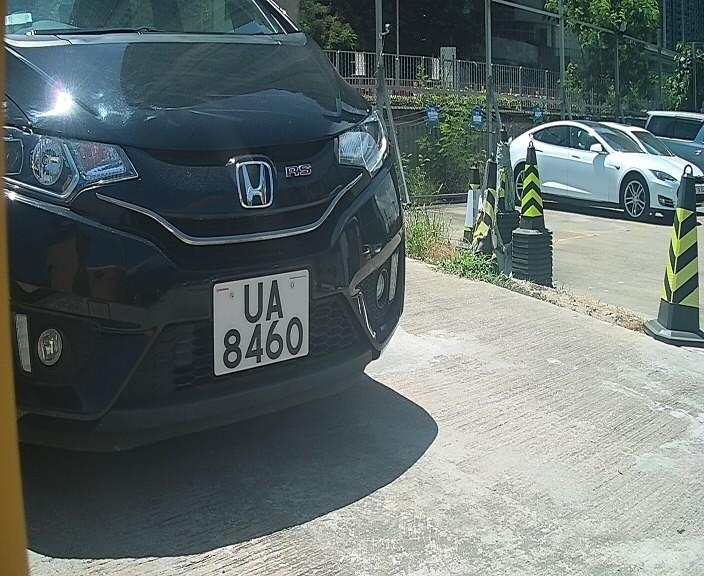privatecar: (13, 13, 403, 448)
